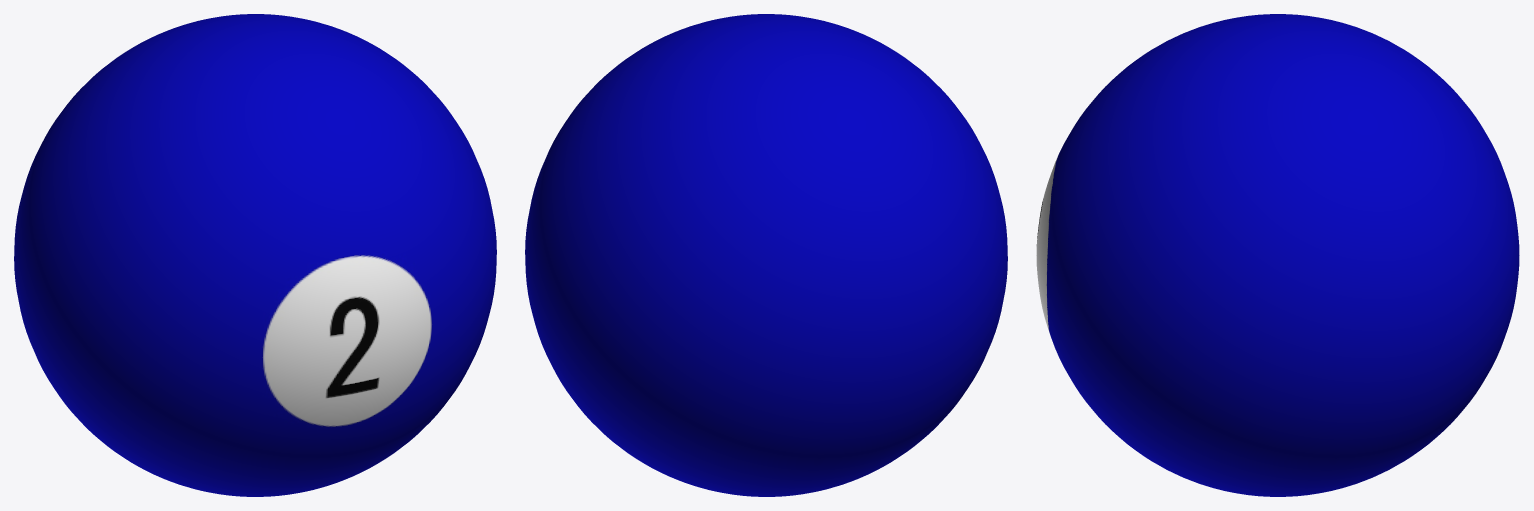
The model's file is Ball2.obj.
3 renders of one model, left to right at view 1: azimuth 30°, elevation 25°; view 2: azimuth 150°, elevation 25°; view 3: azimuth 270°, elevation 25°, orthographic.
Parts seen in each view (by area): view 1: Sphere; view 2: Sphere; view 3: Sphere.
Part boxes in pixels (x1=…): Sphere: x1=14, y1=14, x2=496, y2=496; Sphere: x1=525, y1=14, x2=1007, y2=496; Sphere: x1=1036, y1=14, x2=1519, y2=496.
Bounding box in the file's own units: 2 × 2 × 2.
1 material, 1 textured.
